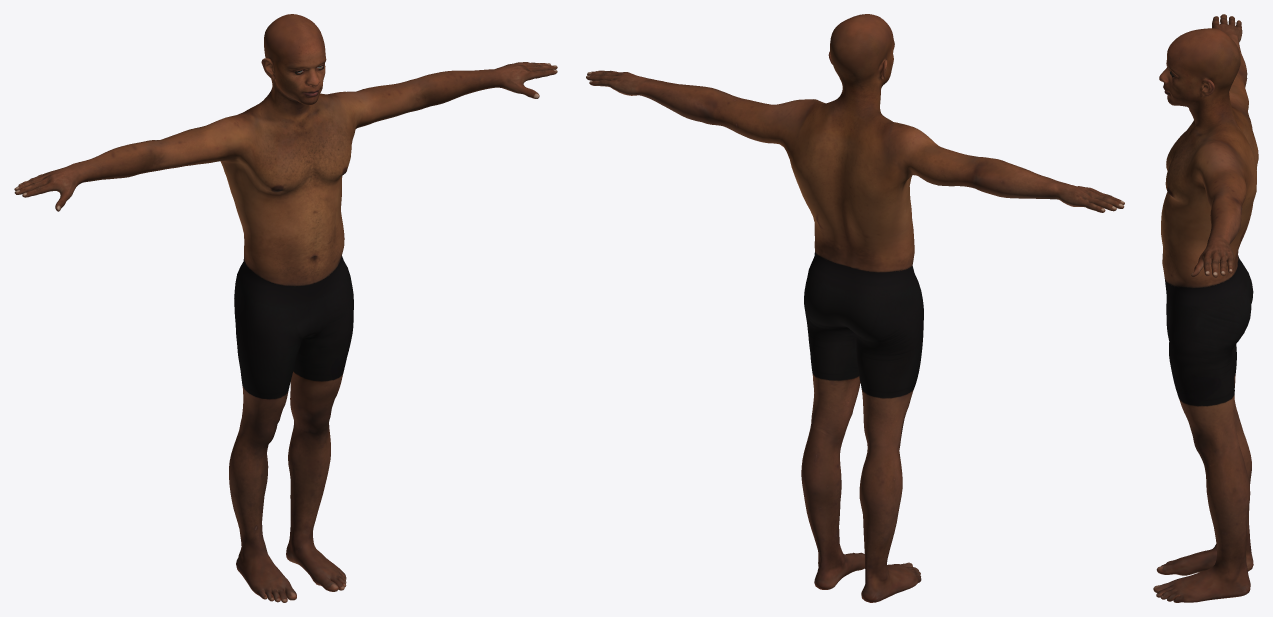
The model's file is BlackMale1.obj.
3 views of the same model, side by side, from view 1: azimuth 30°, elevation 25°; view 2: azimuth 150°, elevation 25°; view 3: azimuth 270°, elevation 25° (orthographic).
Visible parts, largest first — view 1: Body; view 2: Body; view 3: Body.
Boxes of the visible parts, bbox=[...] form: Body: bbox=[14, 14, 557, 602]; Body: bbox=[586, 14, 1124, 602]; Body: bbox=[1153, 14, 1258, 602].
Bounding box in the file's own units: 175 × 175 × 30.03.
Materials: 1 (1 with a texture image).
